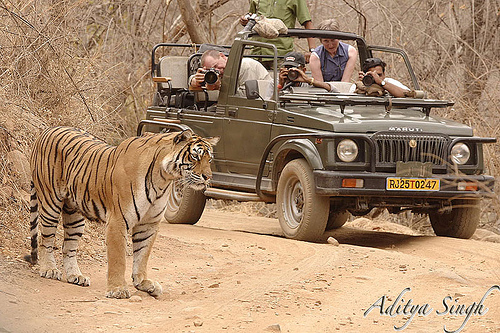Tigre: (27, 114, 224, 301)
